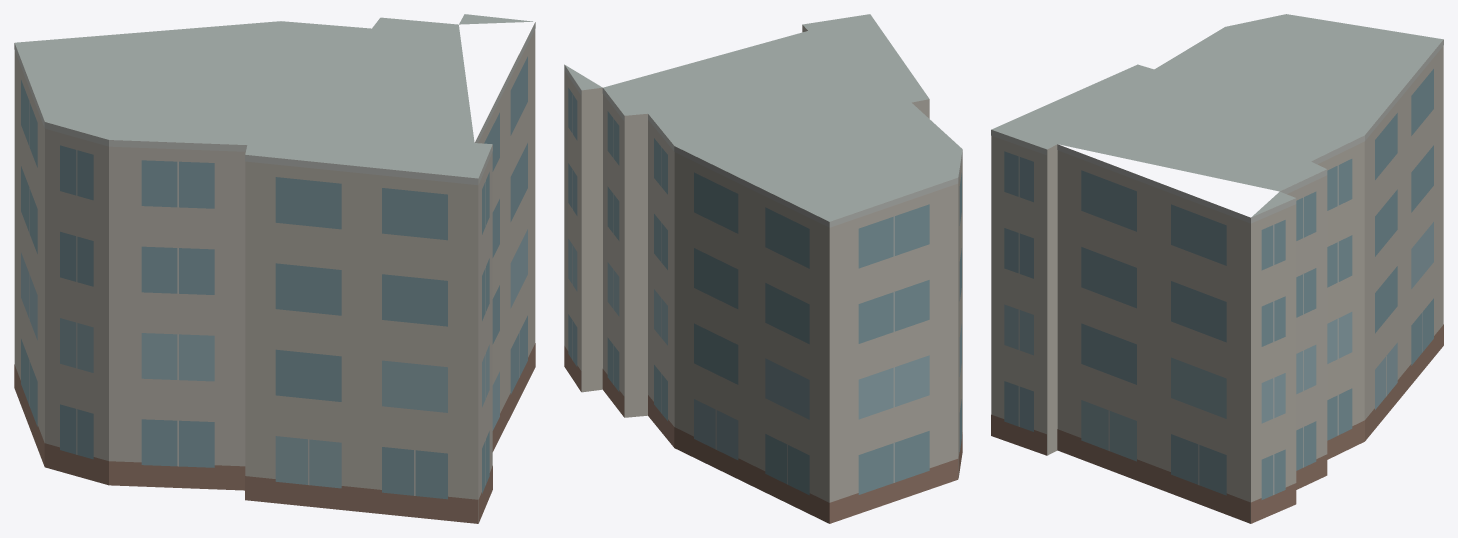
File: survey-upis-32887077.glb
3 renders of one model, left to right at view 1: azimuth 30°, elevation 25°; view 2: azimuth 150°, elevation 25°; view 3: azimuth 270°, elevation 25°, orthographic. The views are drawn at different scales.
Visible parts, largest first — view 1: survey-upis-32887077.tmp; view 2: survey-upis-32887077.tmp; view 3: survey-upis-32887077.tmp.
Part boxes in pixels (box(x1,y1,x2,y2)): survey-upis-32887077.tmp: box(14, 14, 535, 523); survey-upis-32887077.tmp: box(564, 14, 962, 523); survey-upis-32887077.tmp: box(991, 14, 1443, 523).
Bounding box in the file's own units: 17.83 × 12.5 × 16.75.
